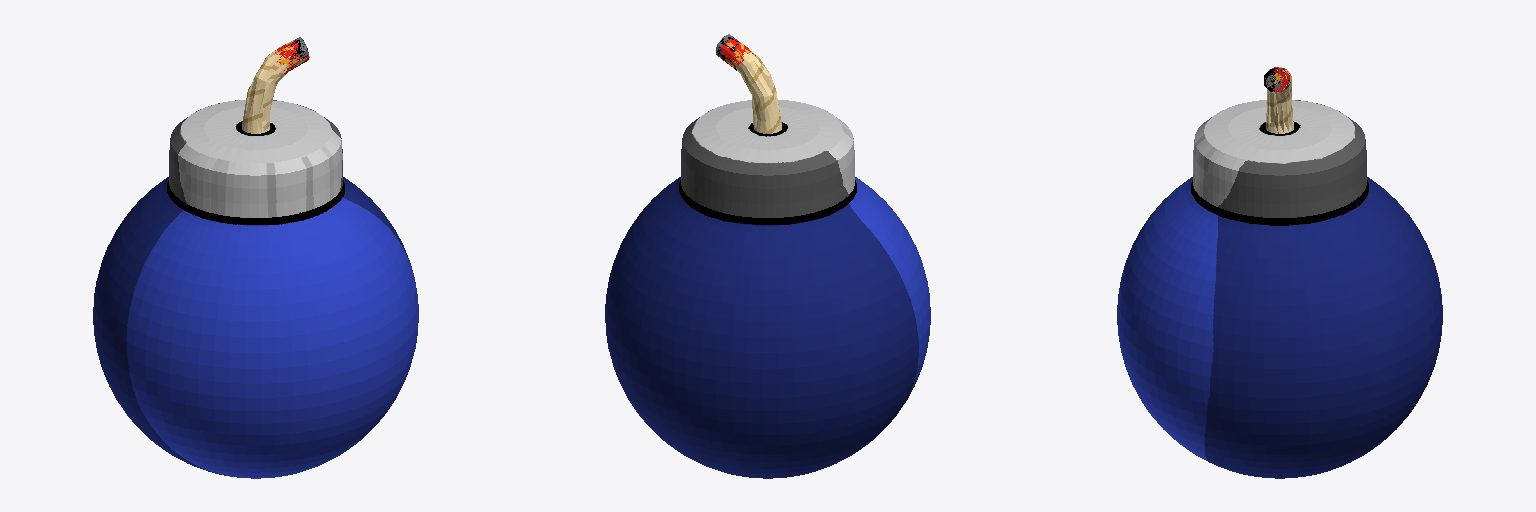
3 renders of one model, left to right at view 1: azimuth 30°, elevation 25°; view 2: azimuth 150°, elevation 25°; view 3: azimuth 270°, elevation 25°, orthographic.
Parts seen in each view (by area): view 1: Sphere_Sphere.001; view 2: Sphere_Sphere.001; view 3: Sphere_Sphere.001.
Boxes of the visible parts, x1,y1,x2,y2 form: Sphere_Sphere.001: [93, 37, 418, 478]; Sphere_Sphere.001: [605, 34, 930, 478]; Sphere_Sphere.001: [1117, 67, 1442, 478].
Size of the model in its own units: 2.73 by 3.85 by 2.73.
Materials: 1 (1 with a texture image).